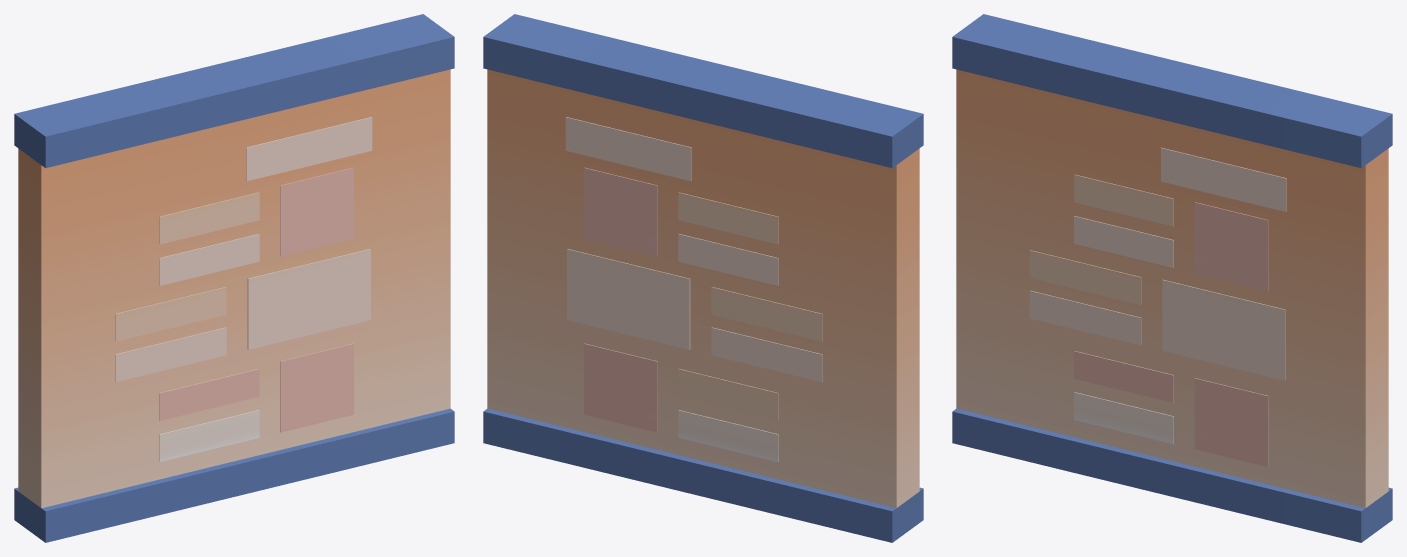
File: M1_Wall_04_2.fbx
The picture shows the model from 3 angles, left to right: view 1: azimuth 30°, elevation 25°; view 2: azimuth 150°, elevation 25°; view 3: azimuth 330°, elevation 25°; orthographic projection.
Parts seen in each view (by area): view 1: M1_Wall_04_2; view 2: M1_Wall_04_2; view 3: M1_Wall_04_2.
Part boxes in pixels (x1,y1,x2,y2): M1_Wall_04_2: (14,14,454,542); M1_Wall_04_2: (483,14,923,542); M1_Wall_04_2: (952,14,1392,542).
Size of the model in its own units: 400 by 380 by 52.99.
